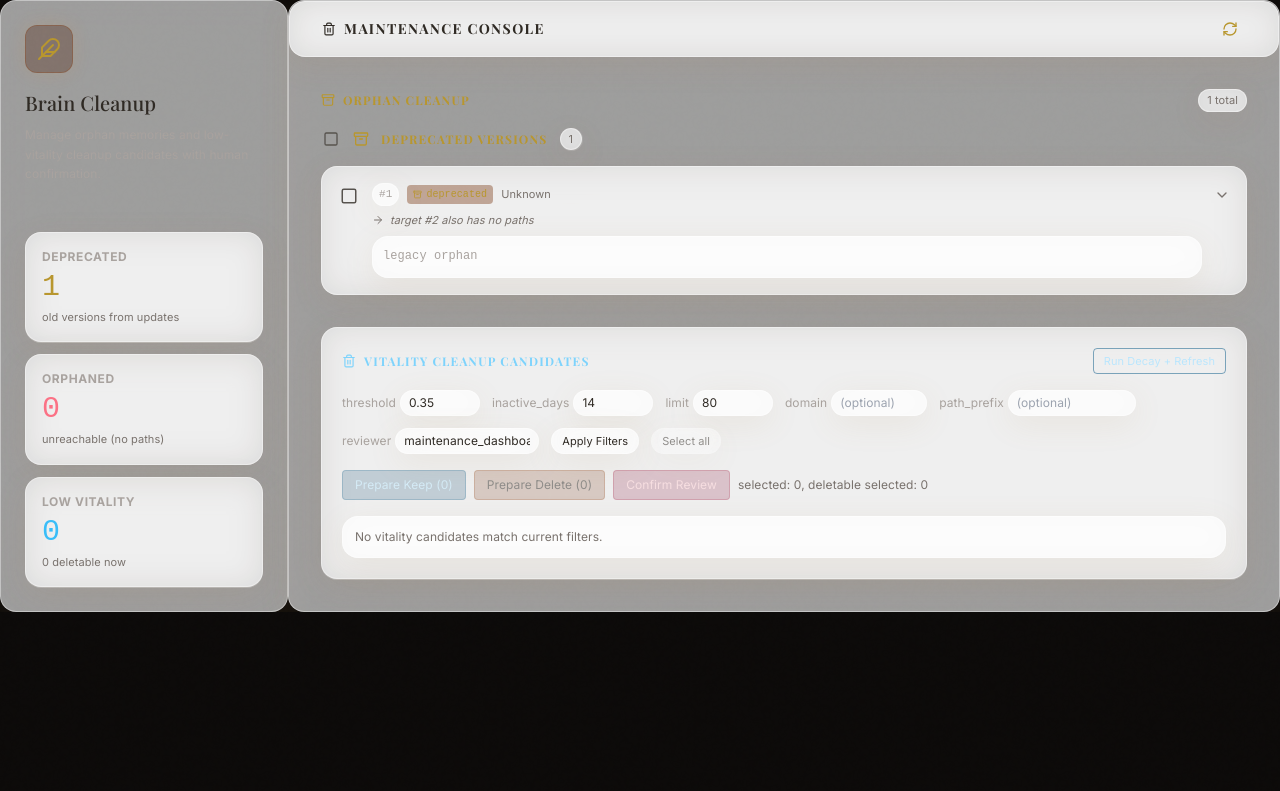
Test case: MaintenancePage › handles invalid created_at and migration_target paths without crashing
Expected: the text "Unknown" is shown, [501,186,551,202]
Expected: the text "target #2 also has no paths" is shown, [390,212,534,228]
Click the text "legacy orphan" at (787, 257), box [372,236,1202,278]
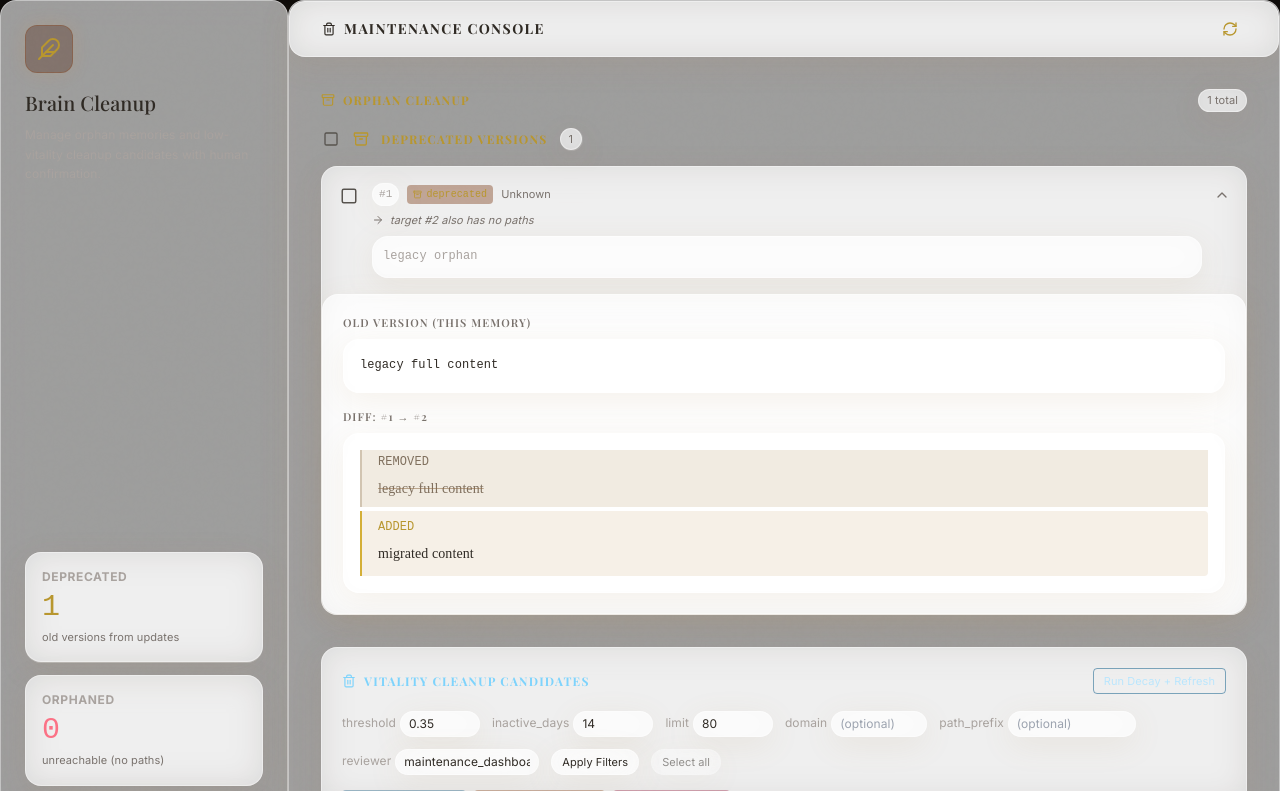
Now the text "legacy full content" below "Old Version (This Memory)" is shown, box [360,358,498,372]
Now the text "Diff: #1 → #2" is shown, box [343,408,428,425]
